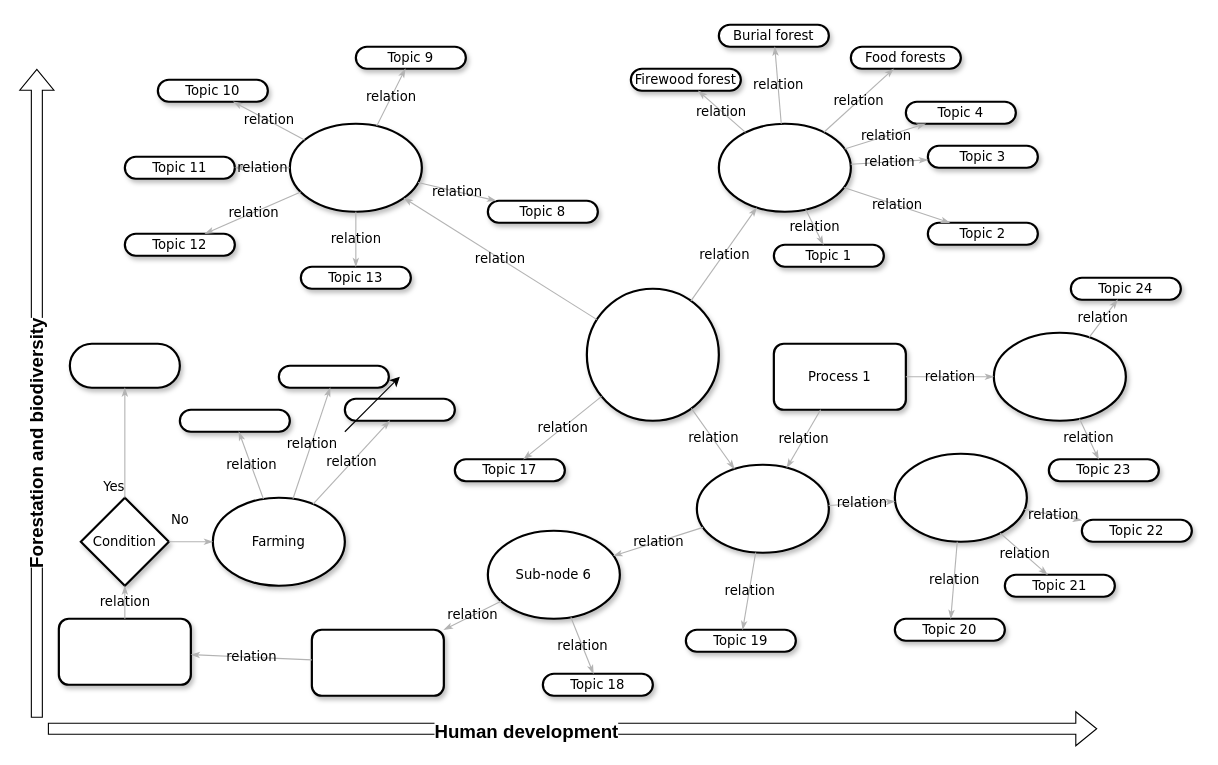
This 1218x765 diagram has some shape labels left out. The shapes that lost their labels are listed below. From the top down, each one's centre as x and y in pixels, then its label:
At (356,169): "Silviculture".
At (785,169): "Ethnoforetsry".
At (125,367): "End".
At (653,356): "Agroforestry".
At (334,378): "Topic 15".
At (1060,378): "Forested agroecology".
At (235,422): "Topic 14".
At (400,411): "Topic 16".
At (763,510): "Sub-node 5".
At (961,499): "Sub-node 4".
At (125,653): "Process 3".
At (378,664): "Process 2".
